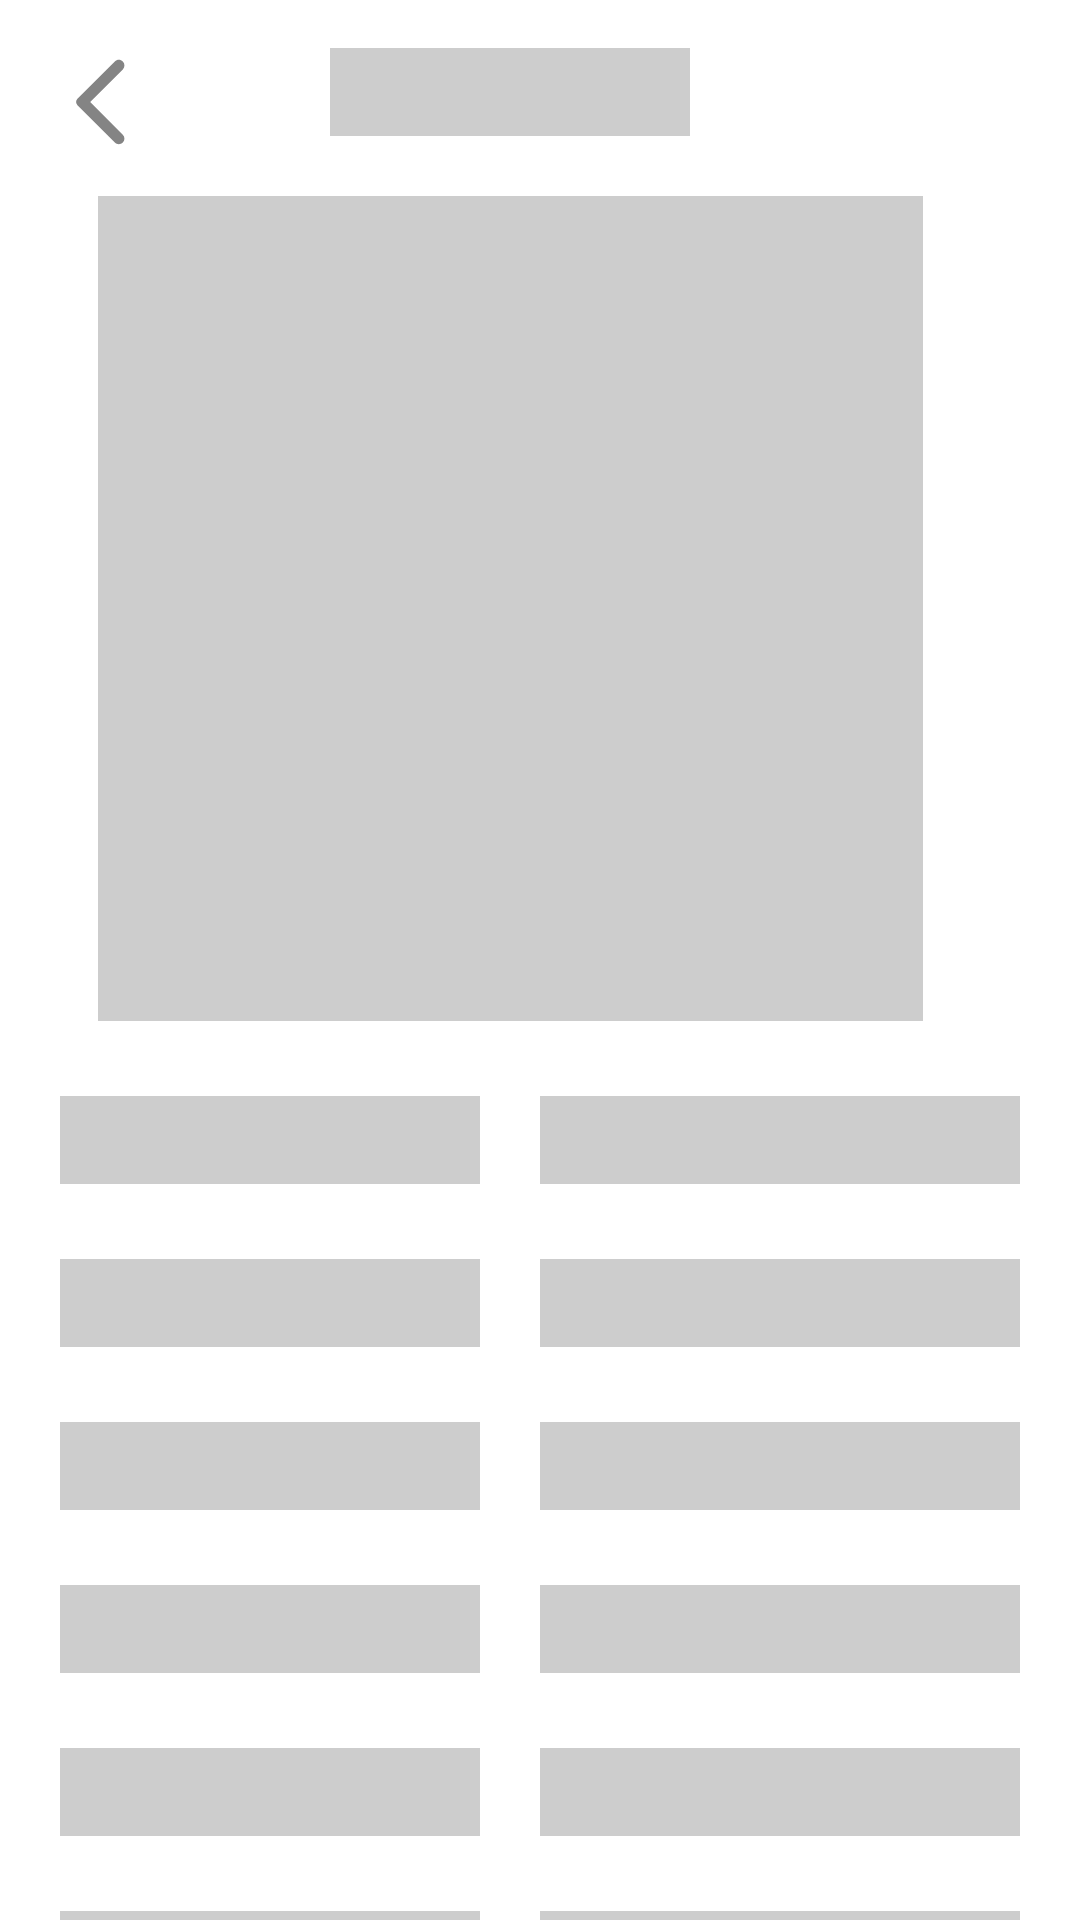

Where icons sit on this 1080px x 1920px app screen, as (x1, y1, x2, y2):
back: (76, 59, 125, 144)
